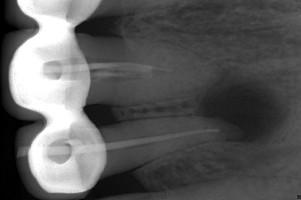Furcation Involvement: (197, 75, 285, 143)
